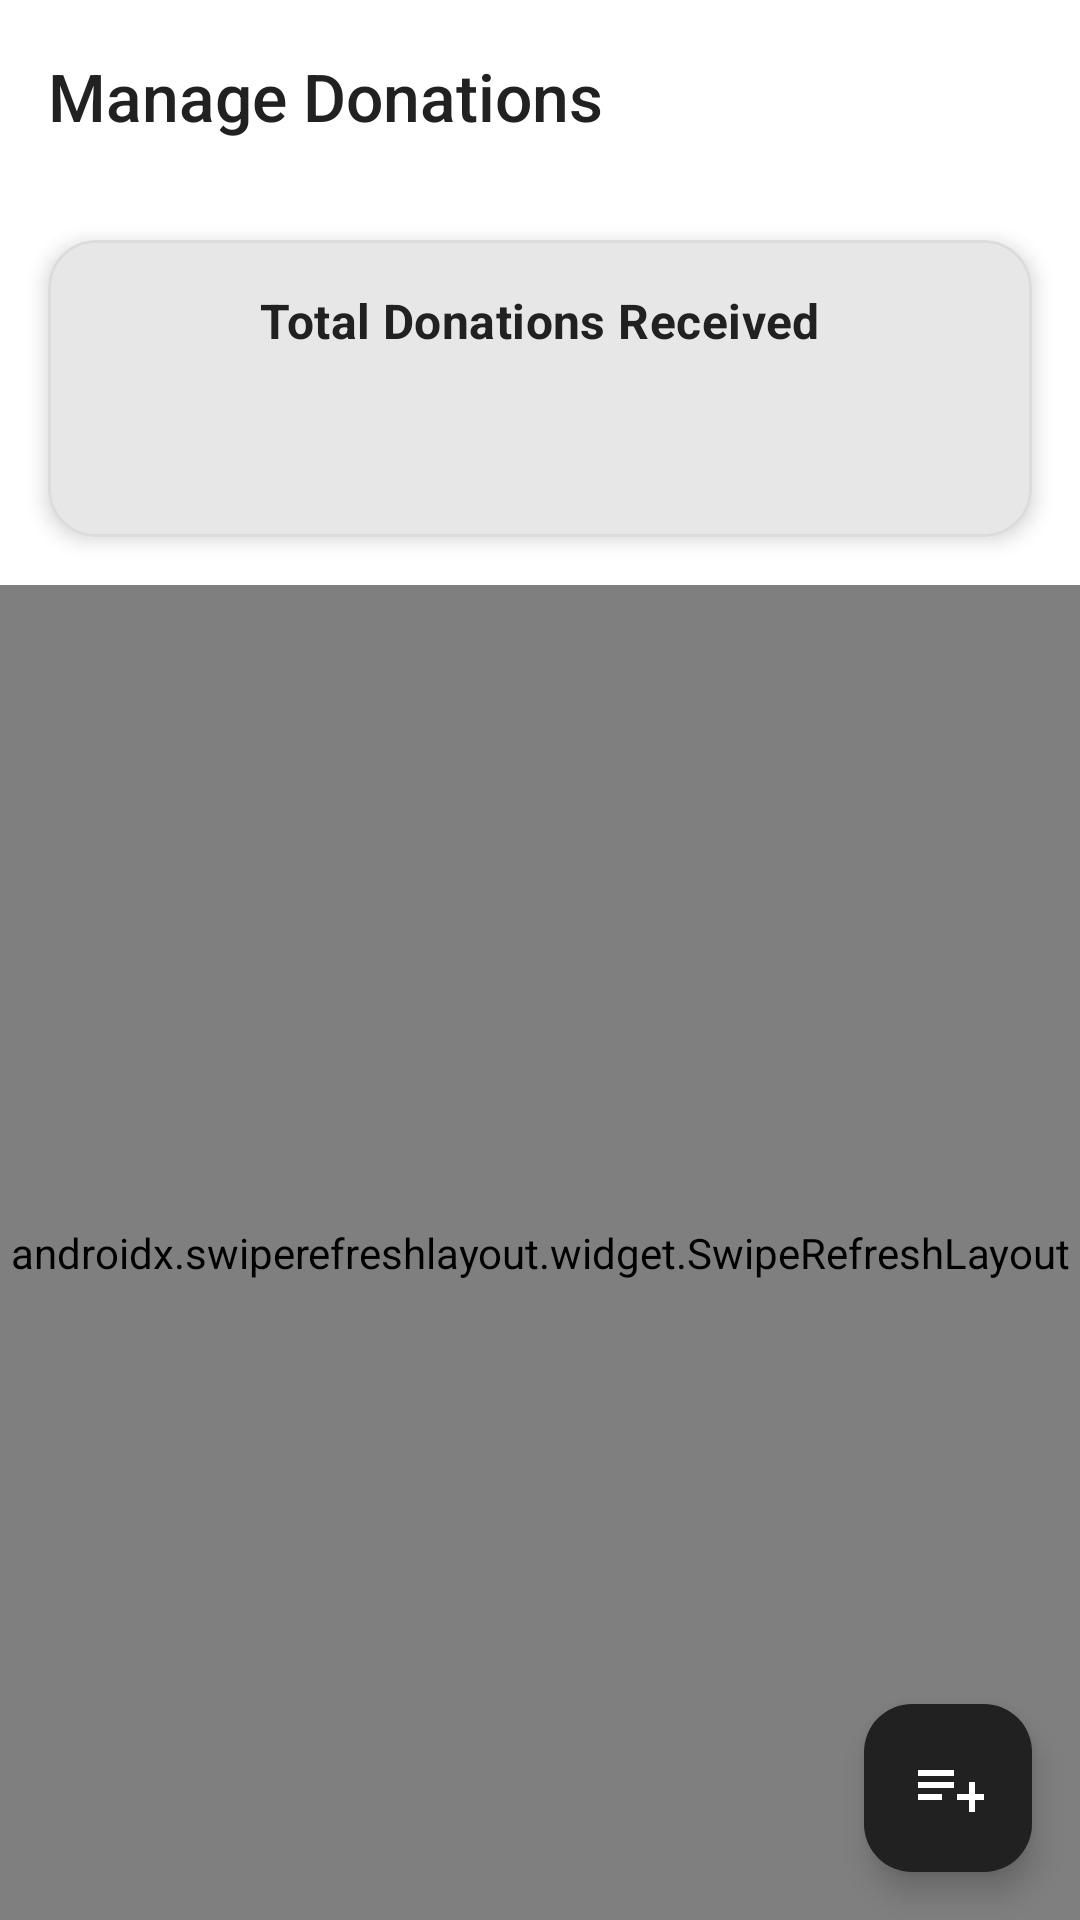

Locate icon controls on the screen. Image size 1080×1920, boxes as bbox=[x1, y1, x2, y2].
Add New Donation: bbox=[864, 1704, 1032, 1872]
